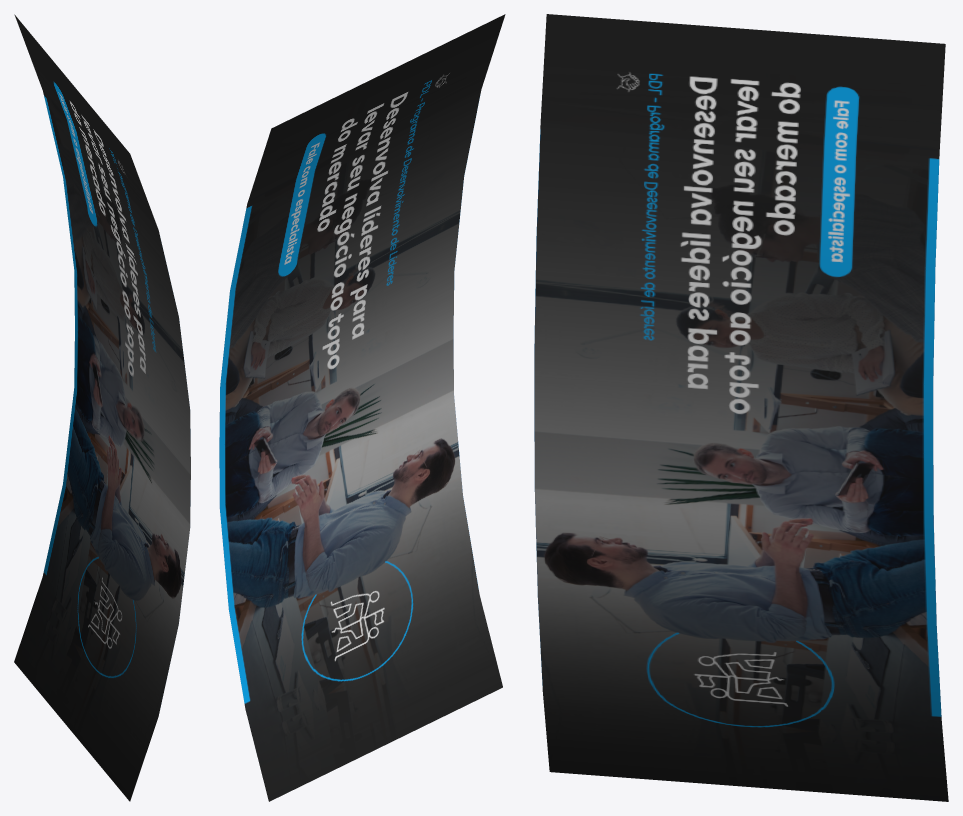
The model's file is Telao_Lobby_Subsolo_Centro.interno.fbx.
3 views of the same model, side by side, from view 1: azimuth 30°, elevation 25°; view 2: azimuth 150°, elevation 25°; view 3: azimuth 270°, elevation 25° (orthographic). The views are drawn at different scales.
Visible parts, largest first — view 1: Telao_Lobby_Subsolo_Centro.interno; view 2: Telao_Lobby_Subsolo_Centro.interno; view 3: Telao_Lobby_Subsolo_Centro.interno.
Part boxes in pixels (x1=…): Telao_Lobby_Subsolo_Centro.interno: x1=14, y1=14, x2=190, y2=801; Telao_Lobby_Subsolo_Centro.interno: x1=219, y1=14, x2=505, y2=801; Telao_Lobby_Subsolo_Centro.interno: x1=534, y1=14, x2=948, y2=801.
Bounding box in the file's own units: 0.8476 × 4.77 × 2.36.
